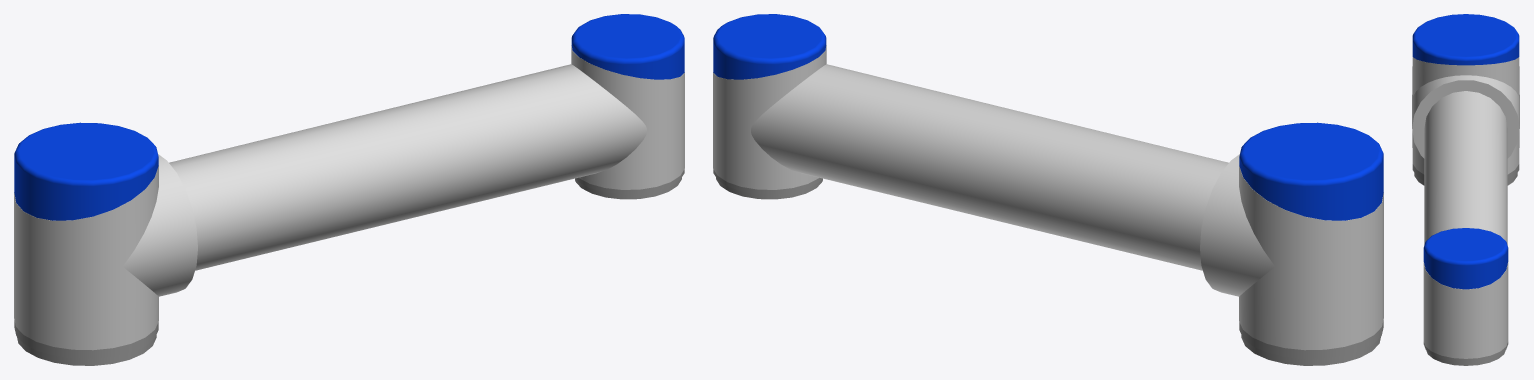
3 renders of one model, left to right at view 1: azimuth 30°, elevation 25°; view 2: azimuth 150°, elevation 25°; view 3: azimuth 270°, elevation 25°, orthographic. The views are drawn at different scales.
Parts seen in each view (by area): view 1: NONE; view 2: NONE; view 3: NONE.
Part boxes in pixels (x1=…): NONE: x1=14, y1=14, x2=684, y2=365; NONE: x1=713, y1=14, x2=1383, y2=365; NONE: x1=1412, y1=14, x2=1519, y2=365.
Size of the model in its own units: 0.781 by 0.15 by 0.211.
